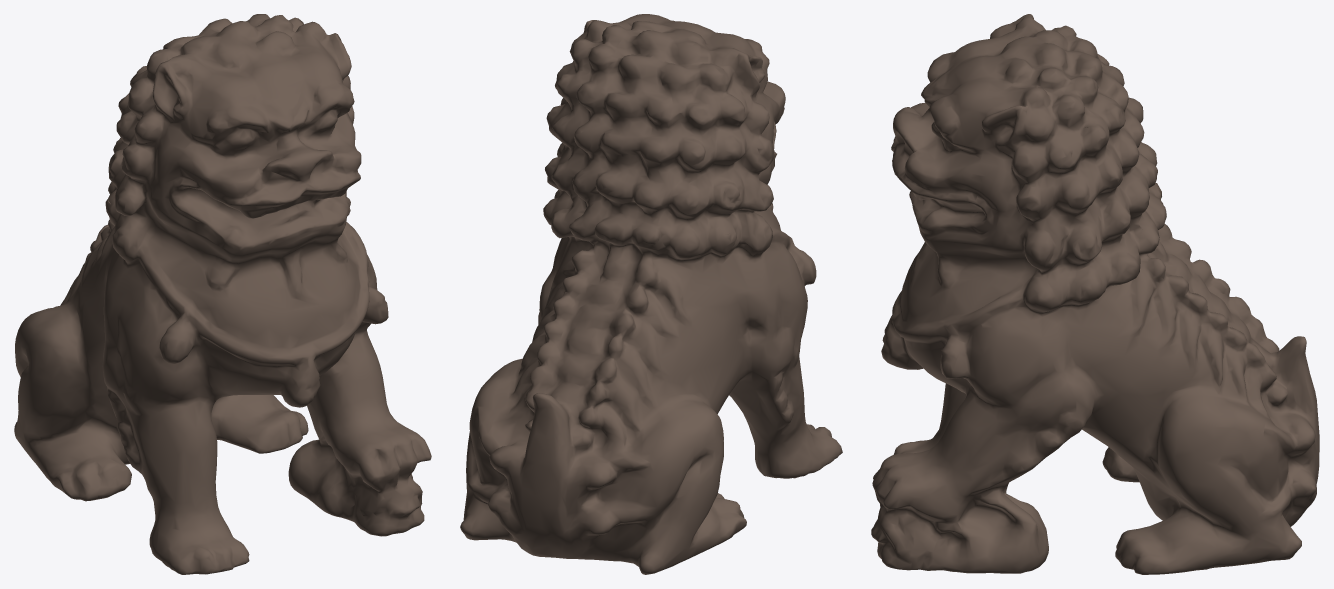
Rendered from lion.gltf.
3 views of the same model, side by side, from view 1: azimuth 30°, elevation 25°; view 2: azimuth 150°, elevation 25°; view 3: azimuth 270°, elevation 25° (orthographic). The views are drawn at different scales.
Visible parts, largest first — view 1: 石狮子; view 2: 石狮子; view 3: 石狮子.
Part boxes in pixels (box(x1,y1,x2,y2)): 石狮子: box(14, 14, 431, 574); 石狮子: box(460, 14, 842, 574); 石狮子: box(871, 14, 1319, 574).
Bounding box in the file's own units: 0.4532 × 0.796 × 0.6801.
